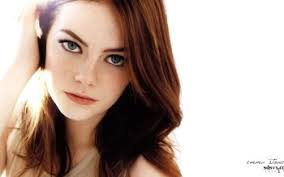noMask: (39, 3, 148, 125)
